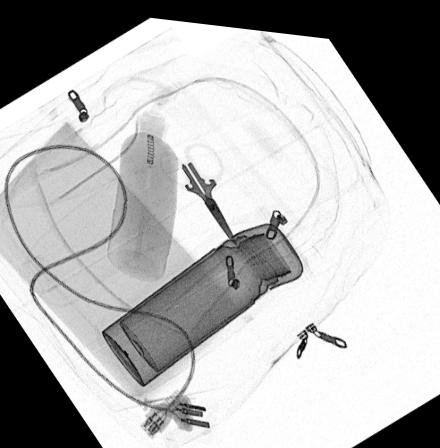Scissors: (158, 135, 237, 238)
